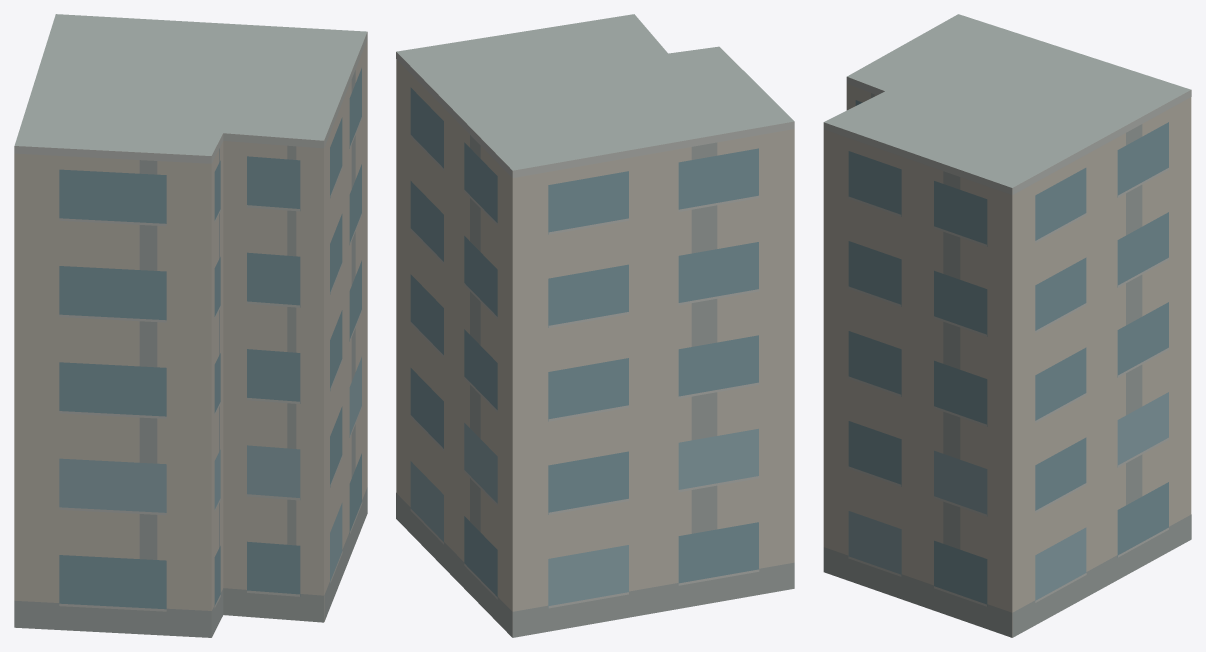
Rendered from residential-98098b59-c51c-412c-998e-05688228ac06.glb.
The picture shows the model from 3 angles, left to right: view 1: azimuth 30°, elevation 25°; view 2: azimuth 150°, elevation 25°; view 3: azimuth 270°, elevation 25°; orthographic projection. The views are drawn at different scales.
Parts seen in each view (by area): view 1: residential-98098b59-c51c-412c-998e-05688228ac06.tmp; view 2: residential-98098b59-c51c-412c-998e-05688228ac06.tmp; view 3: residential-98098b59-c51c-412c-998e-05688228ac06.tmp.
Part boxes in pixels (x1=…): residential-98098b59-c51c-412c-998e-05688228ac06.tmp: x1=14, y1=14, x2=367, y2=637; residential-98098b59-c51c-412c-998e-05688228ac06.tmp: x1=396, y1=14, x2=794, y2=637; residential-98098b59-c51c-412c-998e-05688228ac06.tmp: x1=823, y1=14, x2=1191, y2=637.
Bounding box in the file's own units: 12.66 × 15.25 × 11.31.
